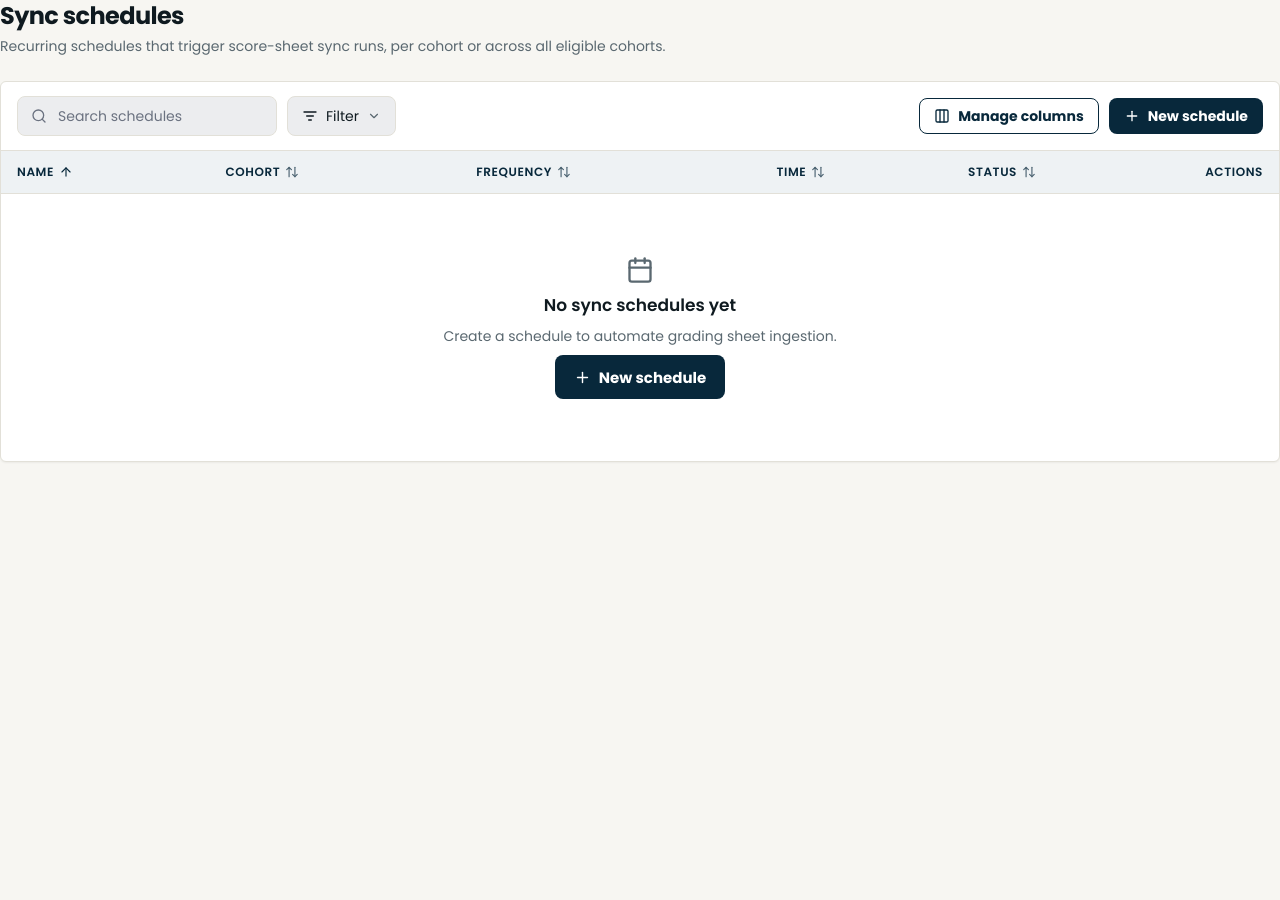
Test case: SyncSchedulesView › opens the create drawer from the header action
The width and height of the screenshot is (1280, 900).
Expected: the text "New sync schedule" is not shown
Click the 1st button "New schedule". click: (1186,116)
box: [1109,98,1263,134]
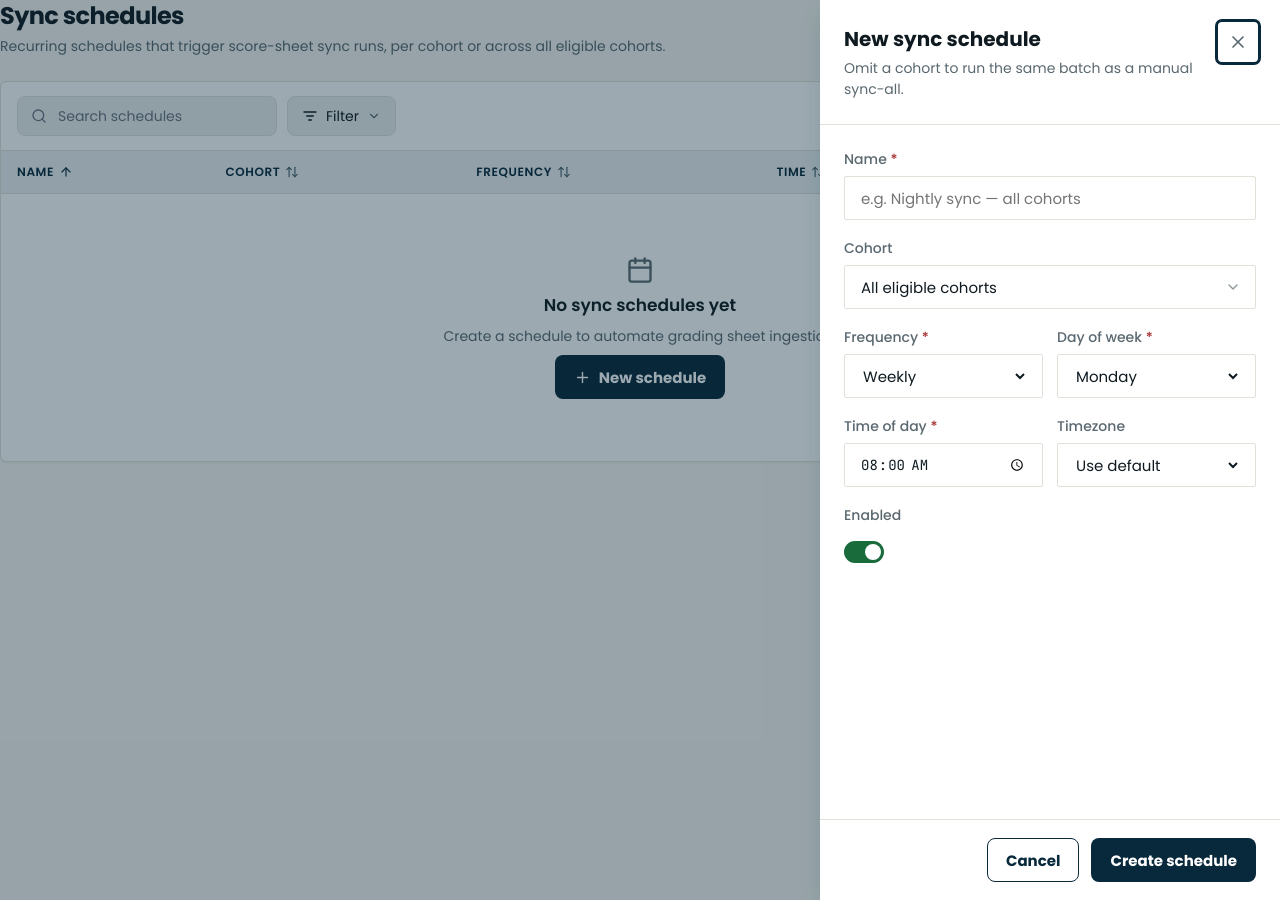
Expected: the text "New sync schedule" is shown, [844,25,1041,53]
